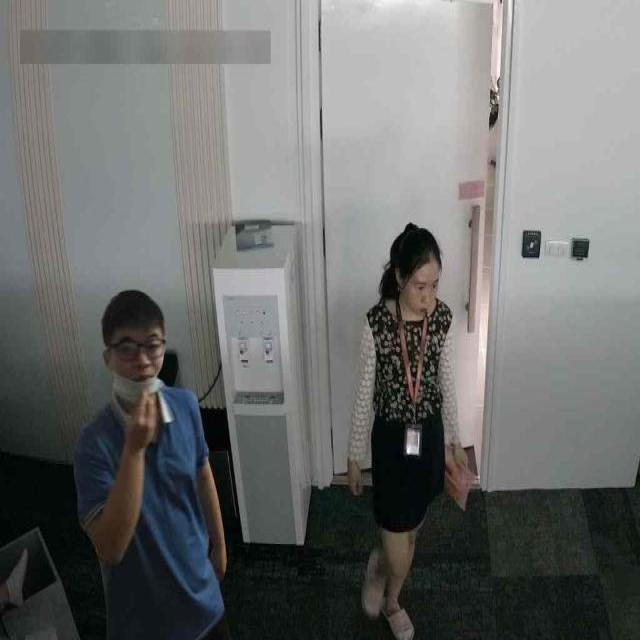bare_hand: (114, 385, 170, 472), (340, 451, 372, 509)
